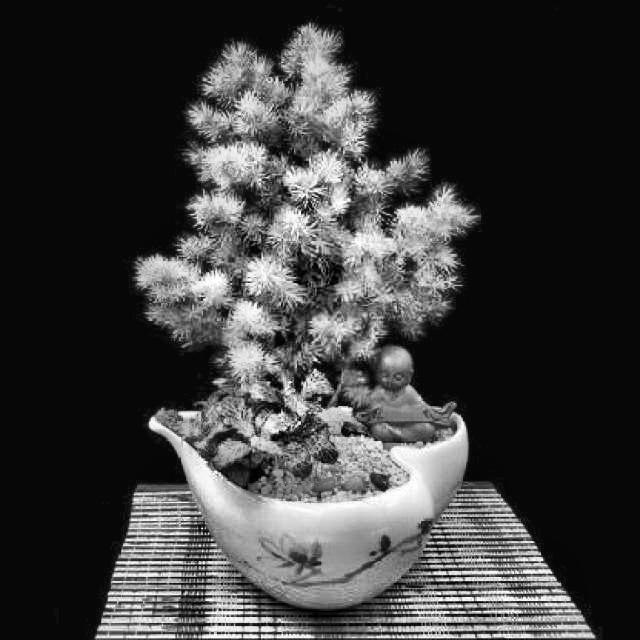plants: (176, 31, 462, 614)
